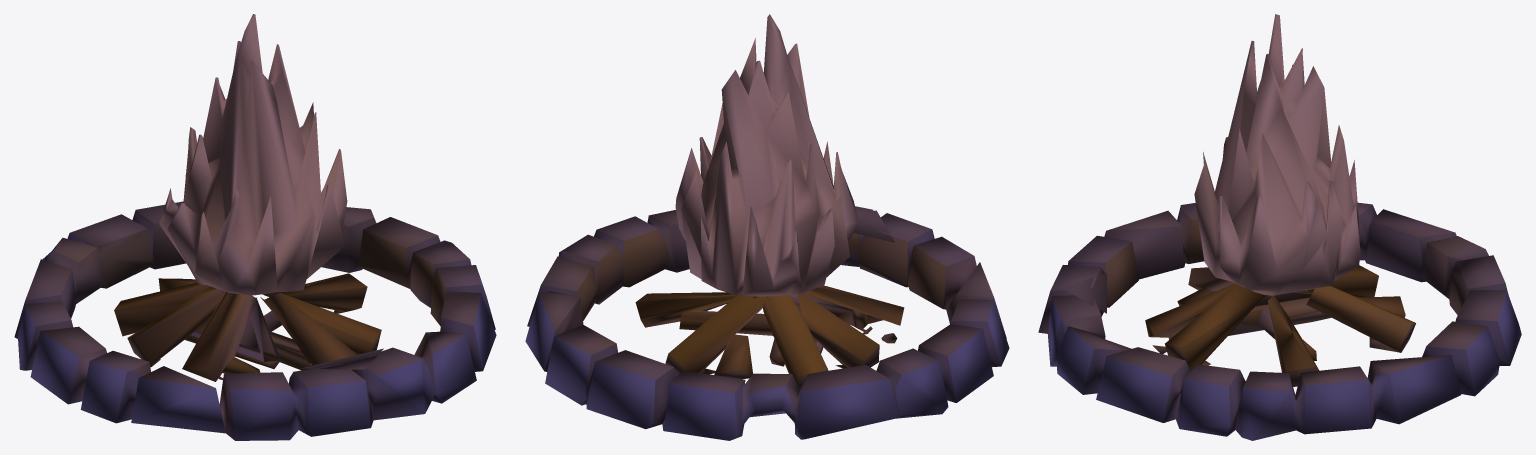
The model's file is model.progressive.glb.
The picture shows the model from 3 angles, left to right: view 1: azimuth 30°, elevation 25°; view 2: azimuth 150°, elevation 25°; view 3: azimuth 270°, elevation 25°; orthographic projection.
Parts seen in each view (by area): view 1: material; view 2: material; view 3: material.
Boxes of the visible parts, x1,y1,x2,y2 form: material: (14,14,496,440); material: (525,14,1009,440); material: (1038,14,1521,440).
Size of the model in its own units: 1.84 by 1.41 by 1.88.
1 material, 1 textured.
